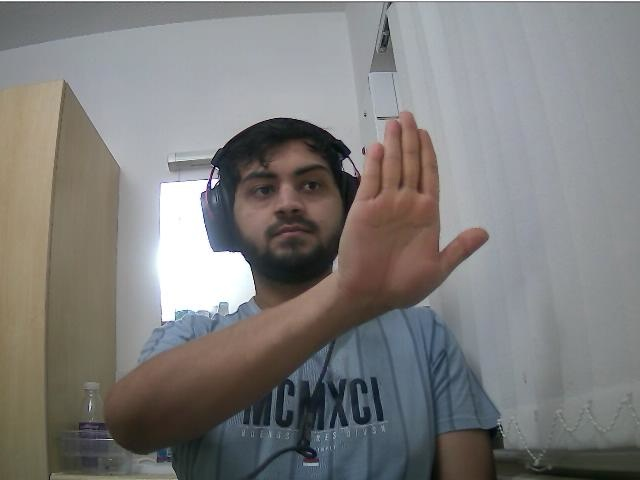up: (339, 110, 442, 310)
